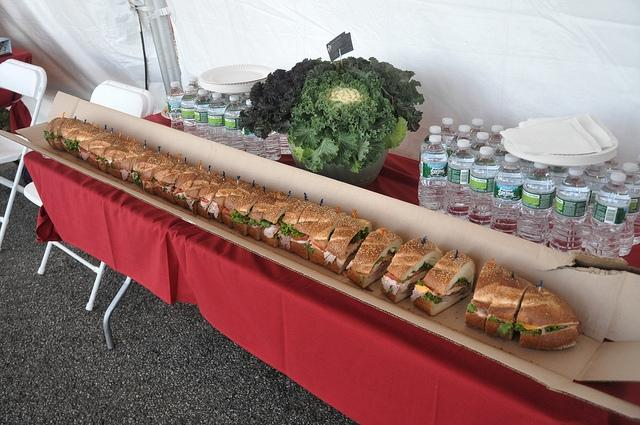lettuce: (238, 56, 424, 173), (324, 124, 360, 168), (305, 136, 339, 172), (488, 314, 514, 336), (516, 322, 541, 336), (350, 226, 369, 244), (230, 210, 250, 223), (424, 292, 442, 304), (64, 139, 80, 151), (280, 223, 294, 236), (258, 219, 274, 228), (133, 170, 141, 185), (545, 326, 565, 332), (44, 130, 54, 141), (467, 302, 478, 312), (459, 278, 471, 286), (359, 273, 364, 286), (308, 247, 315, 255), (100, 157, 108, 163), (182, 196, 188, 203), (160, 188, 167, 192)
